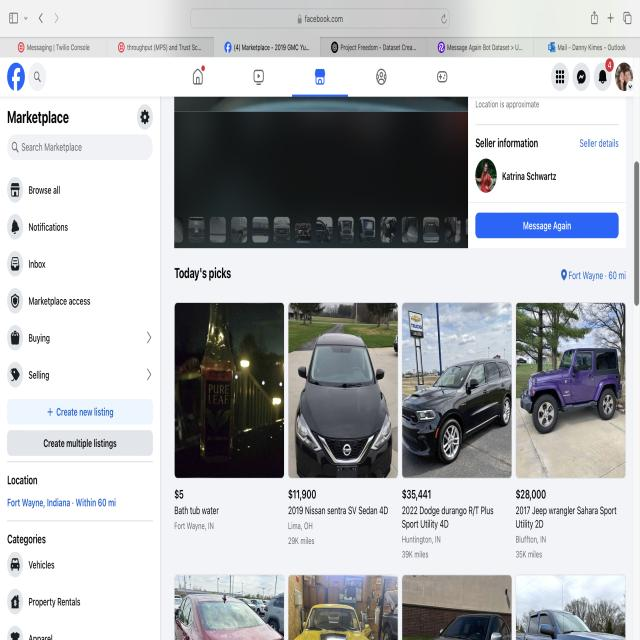message_button: (475, 213, 618, 235)
